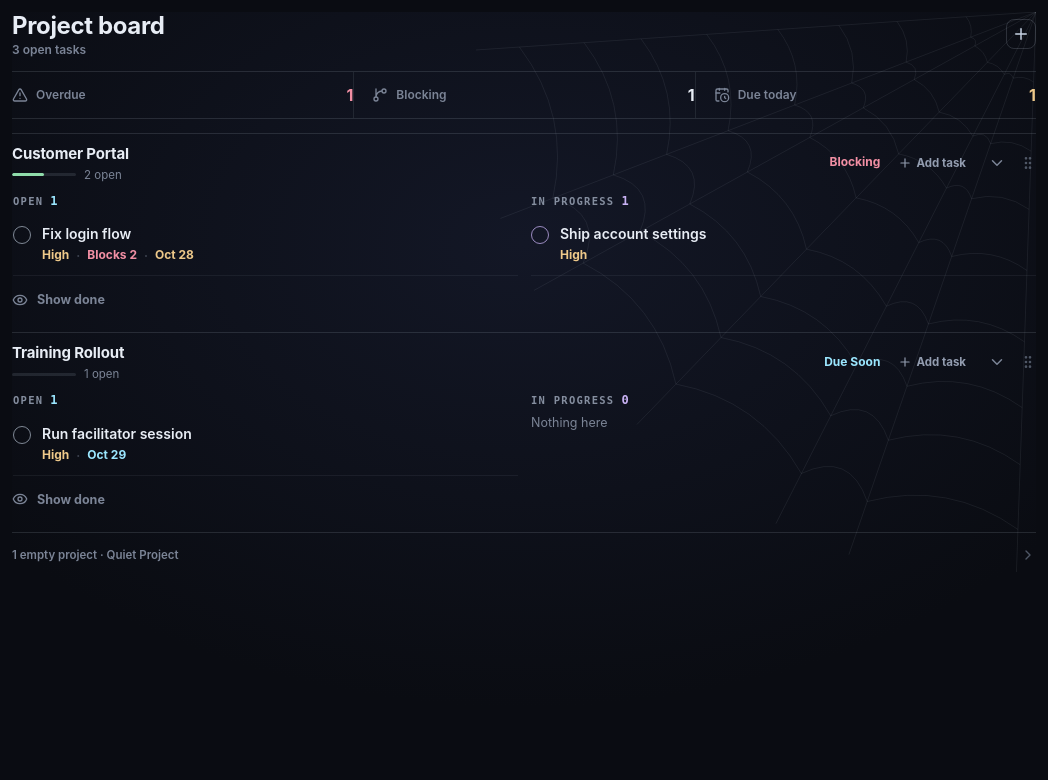
DashboardPage › folds projects with no tasks into one summary row
Expected: the heading "Project board" is shown, [12, 11, 164, 40]
Click the button "1 empty project · Quiet Project": x=95, y=555 [12, 533, 1036, 577]
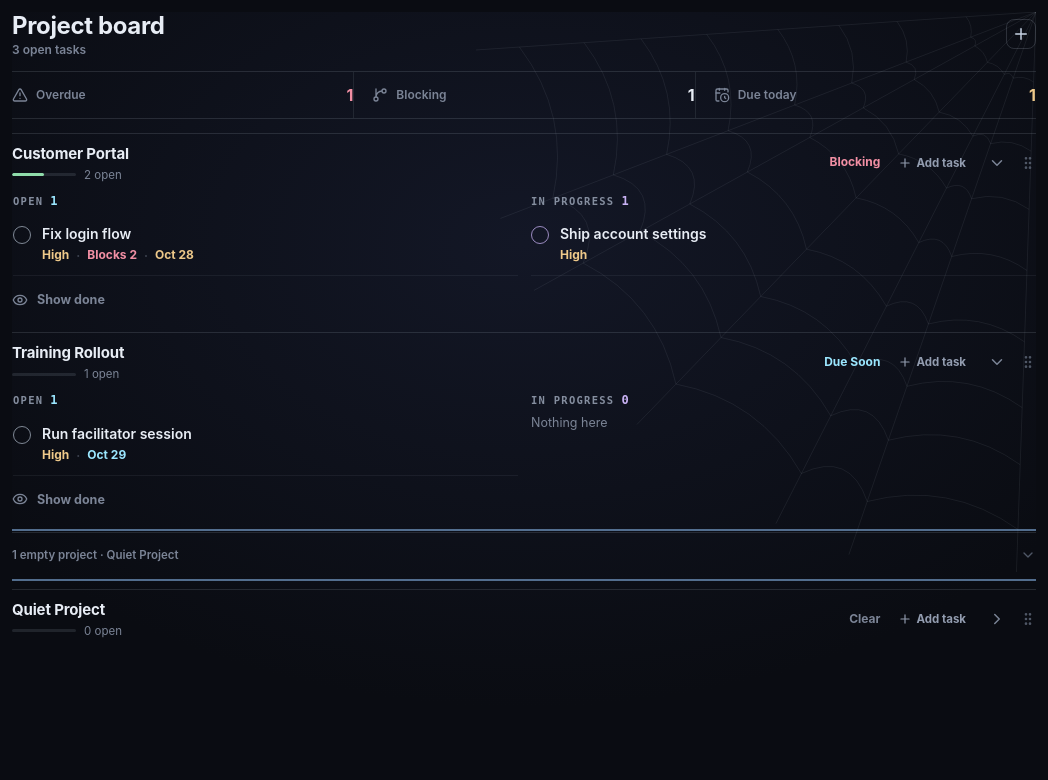
Click the button named "Expand Quiet Project": x=997, y=619 [984, 606, 1010, 632]
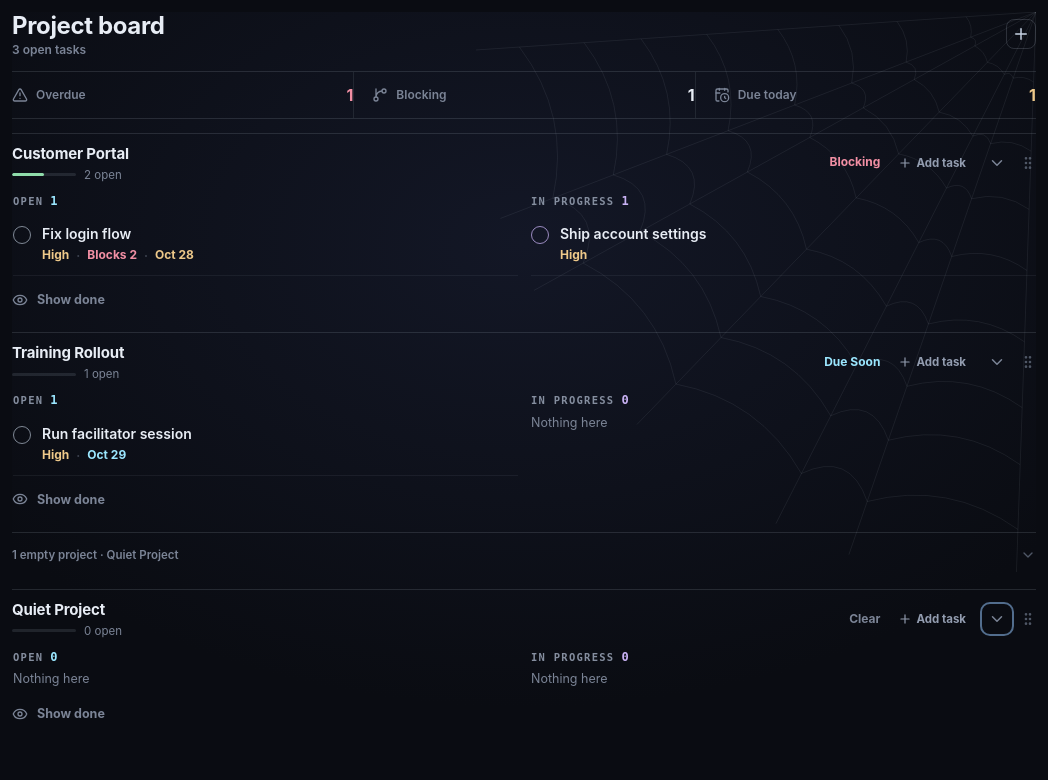
Expected: the element named "Quiet Project Open" is shown, [13, 650, 90, 686]
